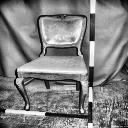chair_success: (2, 7, 94, 116)
